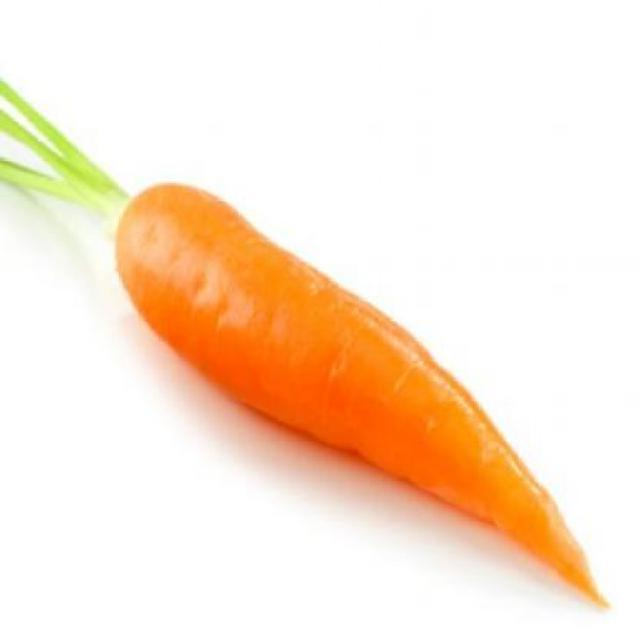carrot: (112, 169, 618, 627)
